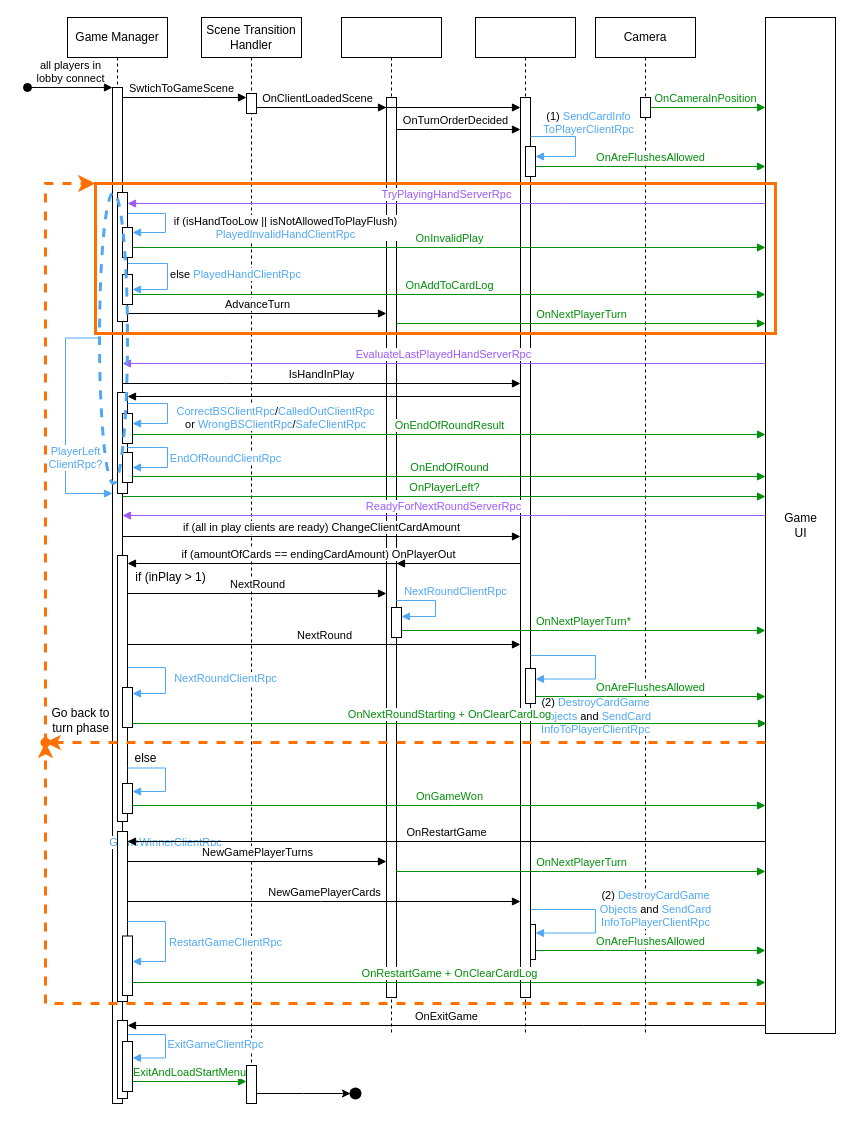
Image size: 853x1123. Some labels were removed from this diagram. Each missing label, with the box of its shape:
Card Manager: (474, 16, 576, 1034)
Turn Manager: (340, 16, 442, 1034)
